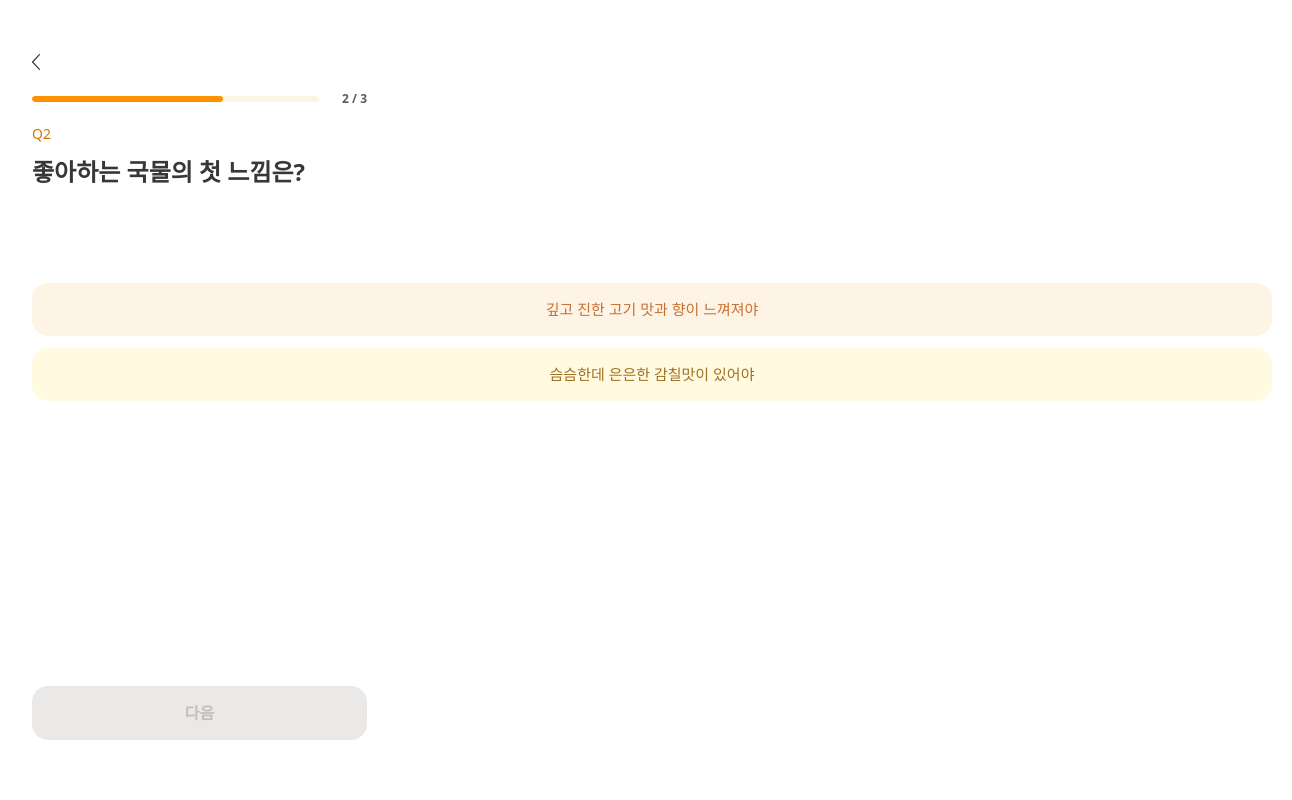
입문자 문항 플로우 › 옵션을 선택하면 다음 버튼이 활성화된다
Click the button "깊고 진한 고기 맛과 향이 느껴져야": (652, 310) [32, 283, 1272, 336]
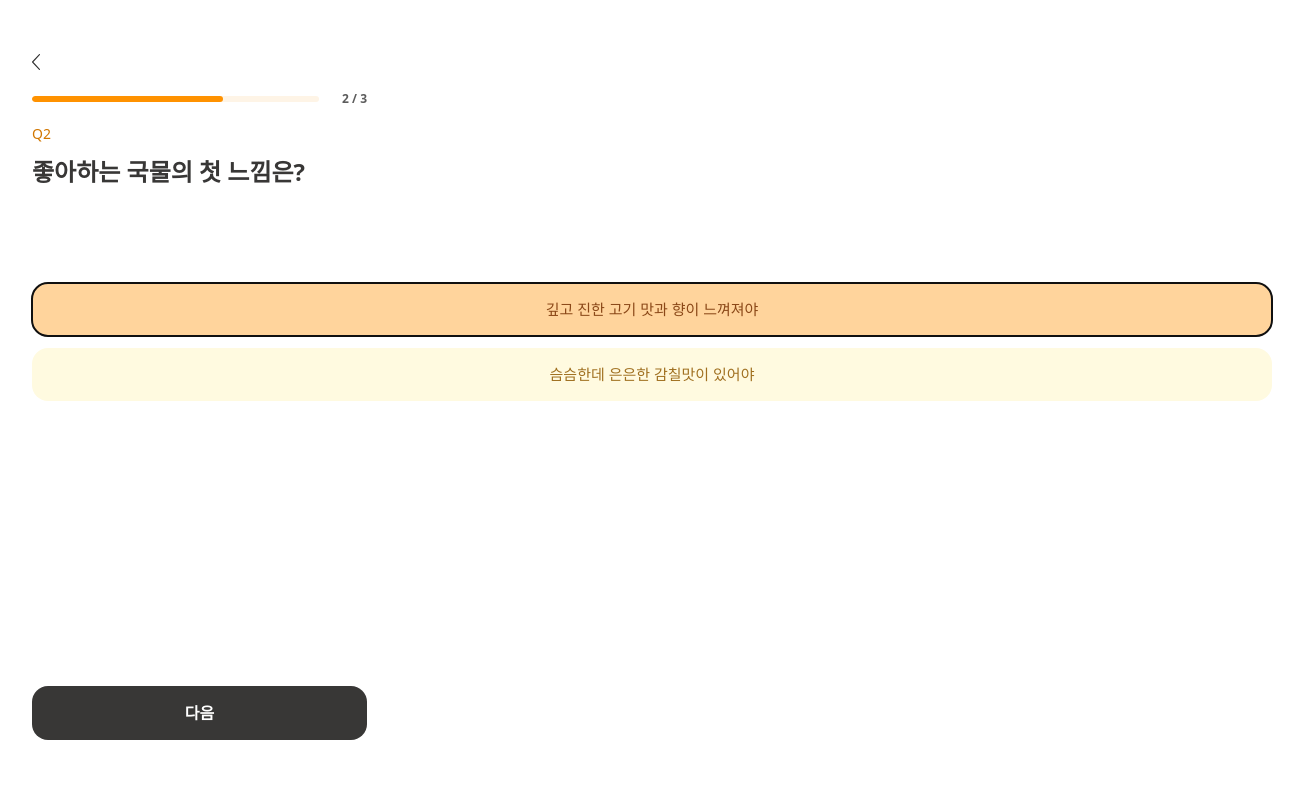
Expected: the button "다음" is enabled, [32, 686, 367, 740]
